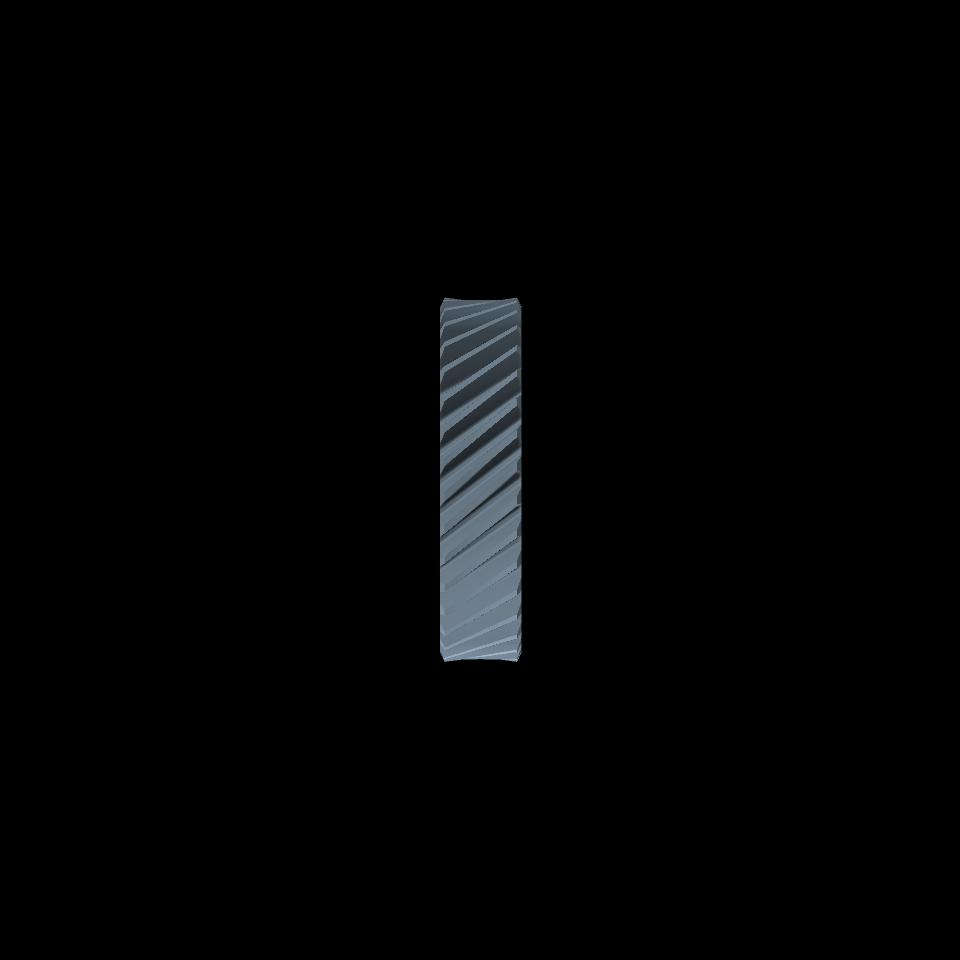Helical: (445, 298, 516, 661)
